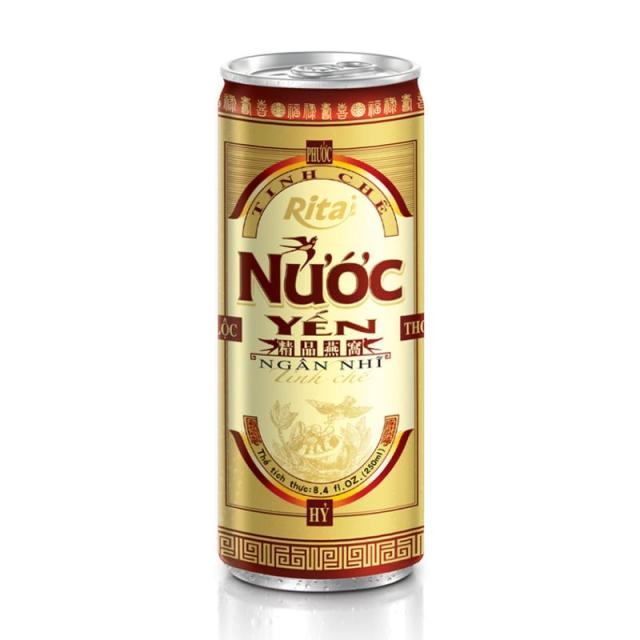metal: (217, 50, 425, 594)
